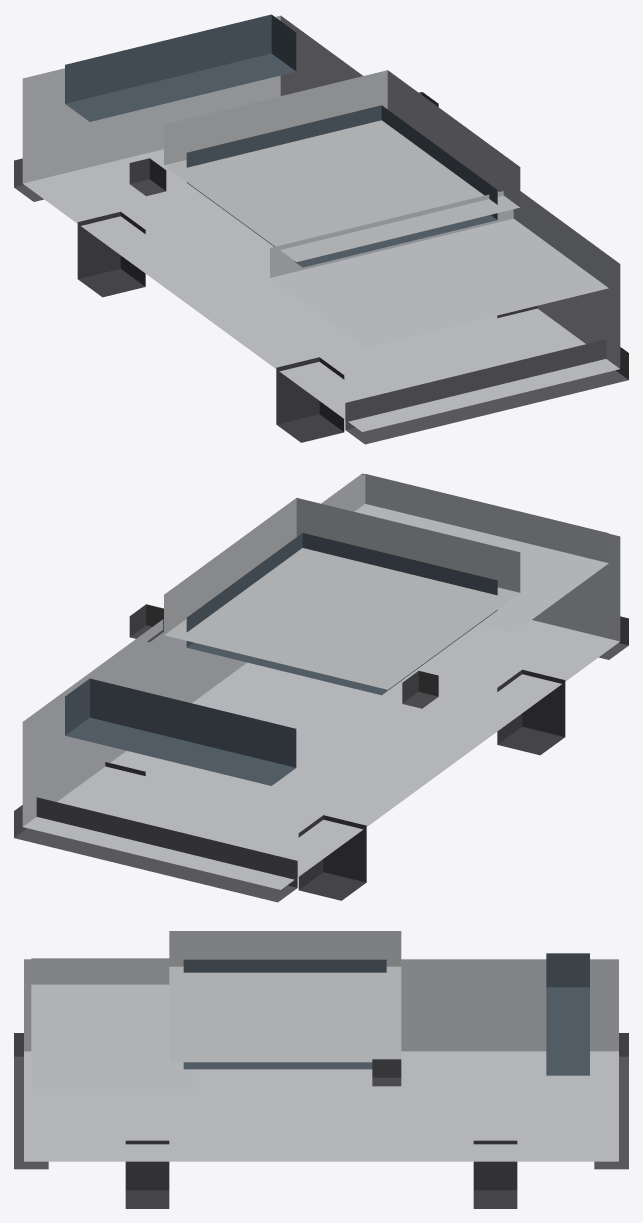
Rendered from car.glb.
3 views of the same model, one above another, from view 1: azimuth 30°, elevation 25°; view 2: azimuth 150°, elevation 25°; view 3: azimuth 270°, elevation 25° (orthographic). The views are drawn at different scales.
Parts seen in each view (by area): view 1: Body, Roof, Hood, GlassF, BumperR, GlassR, WheelFL, WheelRL, MirrorL; view 2: Body, Roof, Hood, GlassF, BumperF, GlassR, WheelRL, WheelFL, MirrorL, MirrorR; view 3: Body, Roof, Hood, GlassF, GlassR, WheelFR, WheelRR, BumperF, BumperR, MirrorR.
Boxes of the visible parts, left/top/right/bottom form: Body: left=22, top=15, right=620, bottom=431; Roof: left=164, top=70, right=520, bottom=261; Hood: left=270, top=191, right=608, bottom=347; GlassF: left=65, top=14, right=296, bottom=121; BumperR: left=345, top=339, right=628, bottom=444; GlassR: left=186, top=105, right=497, bottom=267; WheelFL: left=77, top=211, right=145, bottom=297; WheelRL: left=276, top=357, right=344, bottom=442; MirrorL: left=129, top=158, right=166, bottom=196; Body: left=22, top=473, right=620, bottom=889; Roof: left=164, top=498, right=520, bottom=689; Hood: left=324, top=474, right=608, bottom=632; GlassF: left=65, top=678, right=296, bottom=785; BumperF: left=14, top=797, right=297, bottom=902; GlassR: left=186, top=533, right=497, bottom=695; WheelRL: left=497, top=669, right=565, bottom=755; WheelFL: left=298, top=815, right=366, bottom=900; MirrorL: left=402, top=671, right=438, bottom=708; MirrorR: left=129, top=604, right=163, bottom=642; Body: left=24, top=959, right=618, bottom=1161; Roof: left=169, top=931, right=401, bottom=1062; Hood: left=31, top=958, right=198, bottom=1088; GlassF: left=546, top=953, right=589, bottom=1075; GlassR: left=183, top=959, right=386, bottom=1069; WheelFR: left=473, top=1140, right=517, bottom=1208; WheelRR: left=125, top=1140, right=169, bottom=1208; BumperF: left=594, top=1033, right=628, bottom=1169; BumperR: left=14, top=1033, right=48, bottom=1169; MirrorR: left=372, top=1059, right=401, bottom=1086.
Size of the model in its own units: 2.04 by 1.32 by 4.24.
